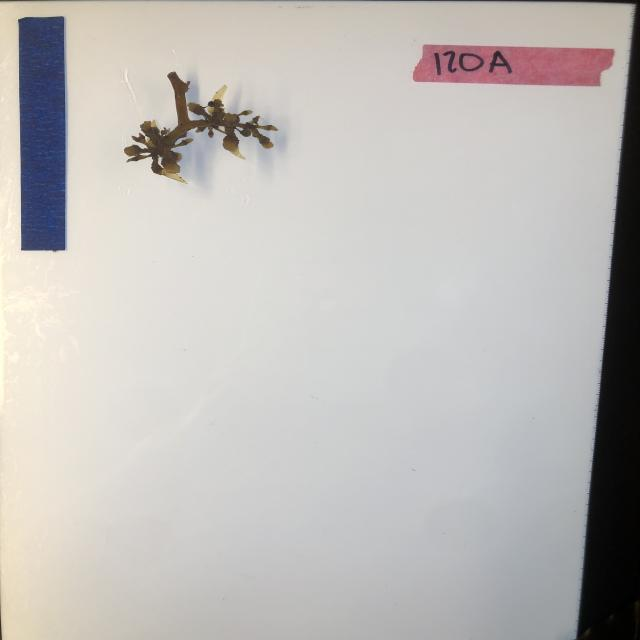index: (412, 43, 616, 91)
measure_label: (18, 14, 72, 254)
rachis_cluster: (120, 70, 281, 186)
